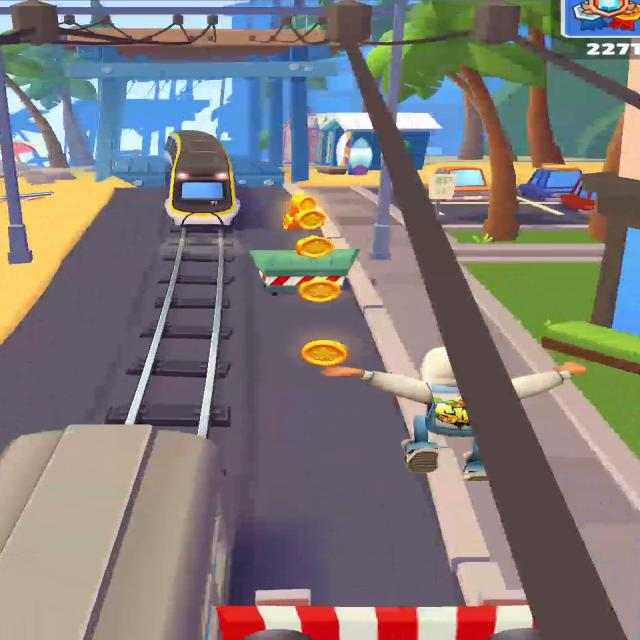roll blocker: (249, 249, 358, 288), (230, 155, 283, 188), (113, 170, 165, 186)
train: (163, 130, 236, 231)
